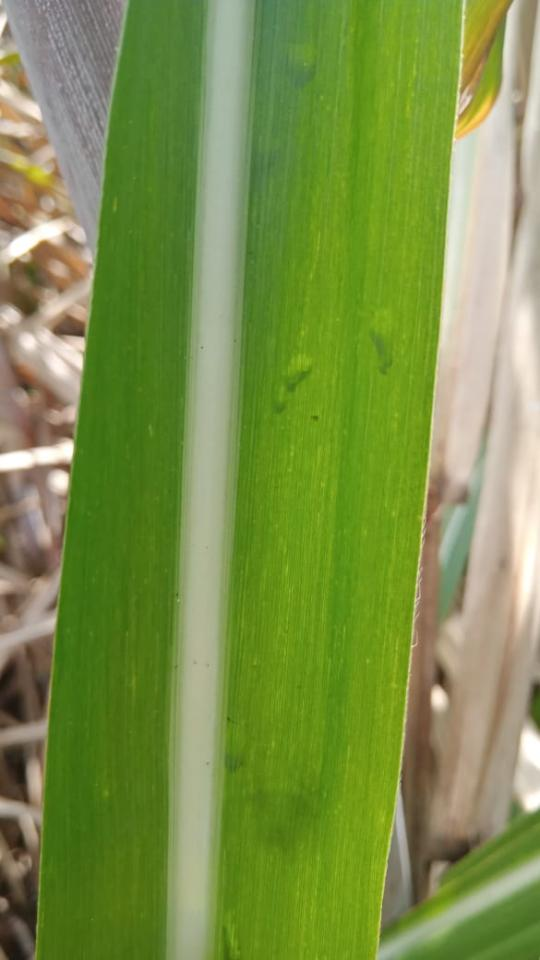Healthy: (38, 0, 461, 959), (378, 810, 539, 959)
